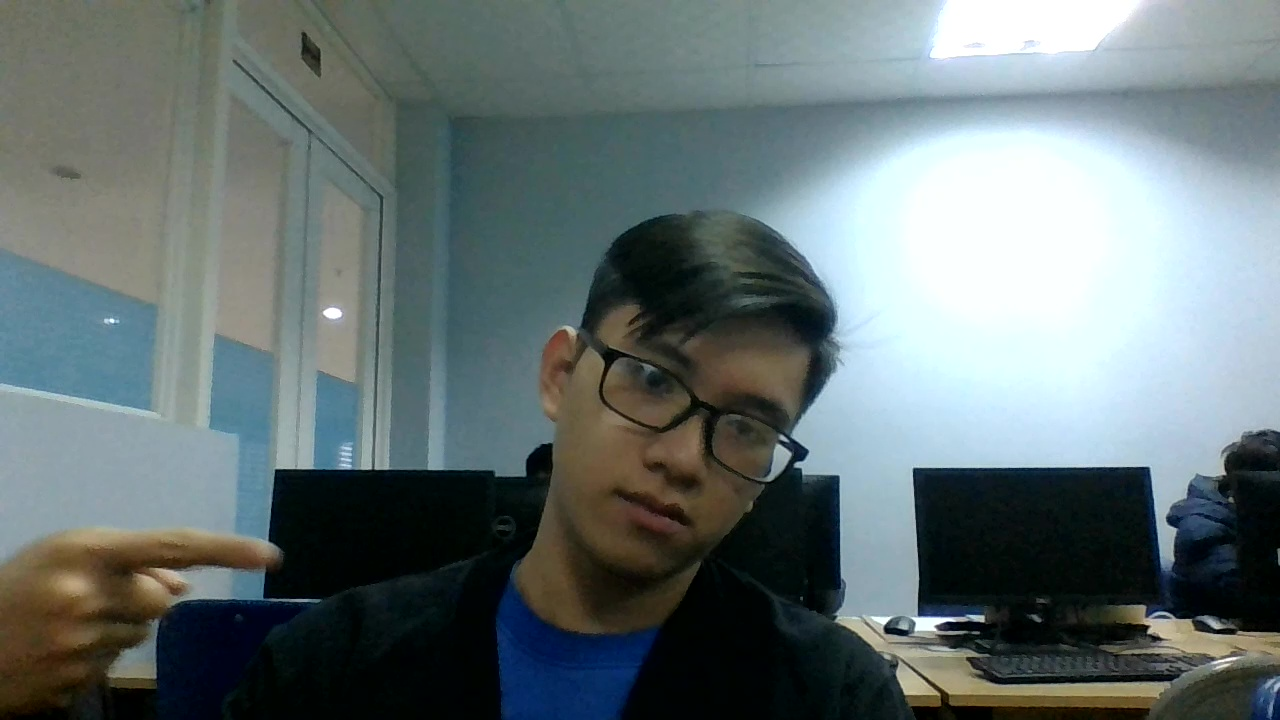left: (1, 520, 296, 720)
